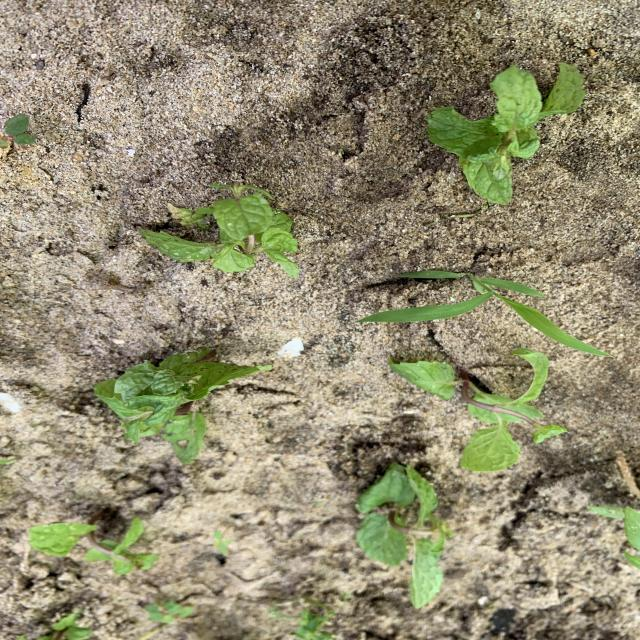crop: (429, 62, 584, 203), (389, 349, 567, 471), (94, 349, 269, 462), (142, 184, 299, 276), (356, 464, 451, 606), (30, 518, 150, 572), (37, 611, 91, 639)
weed: (357, 270, 610, 357), (1, 114, 35, 150), (297, 611, 335, 639), (147, 600, 192, 623), (214, 531, 231, 553)
